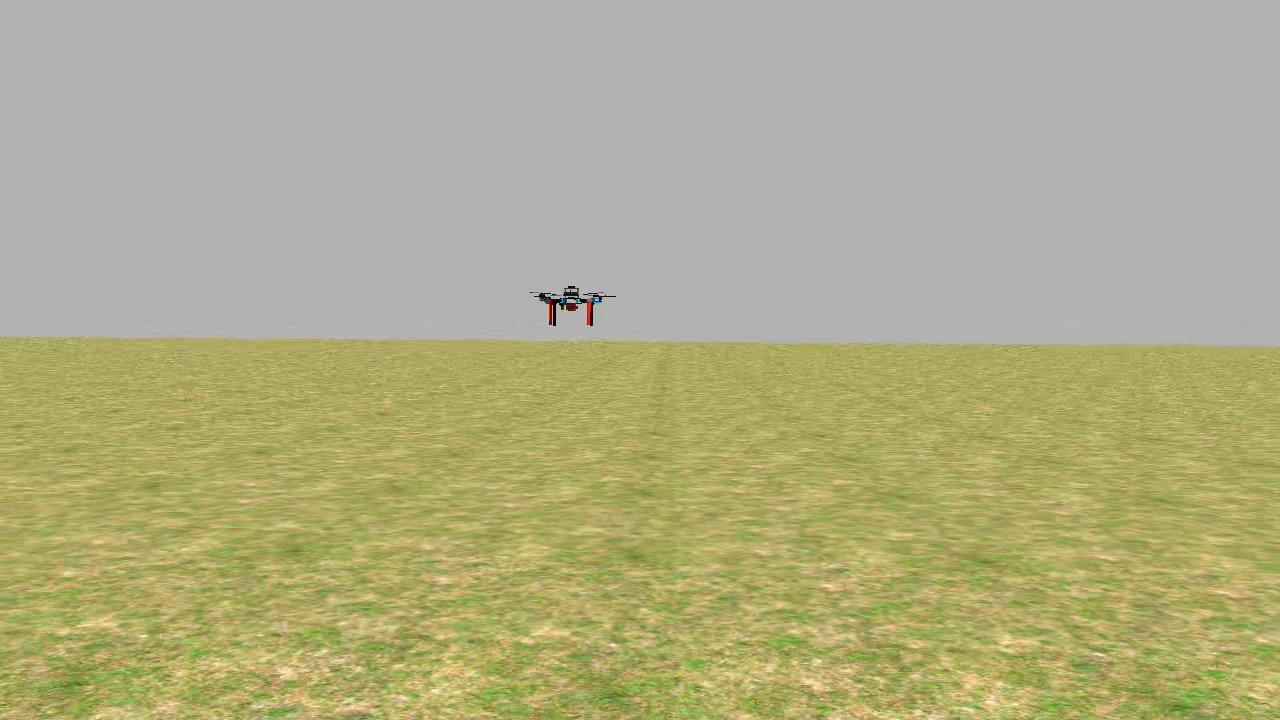UAV: (530, 282, 606, 332)
